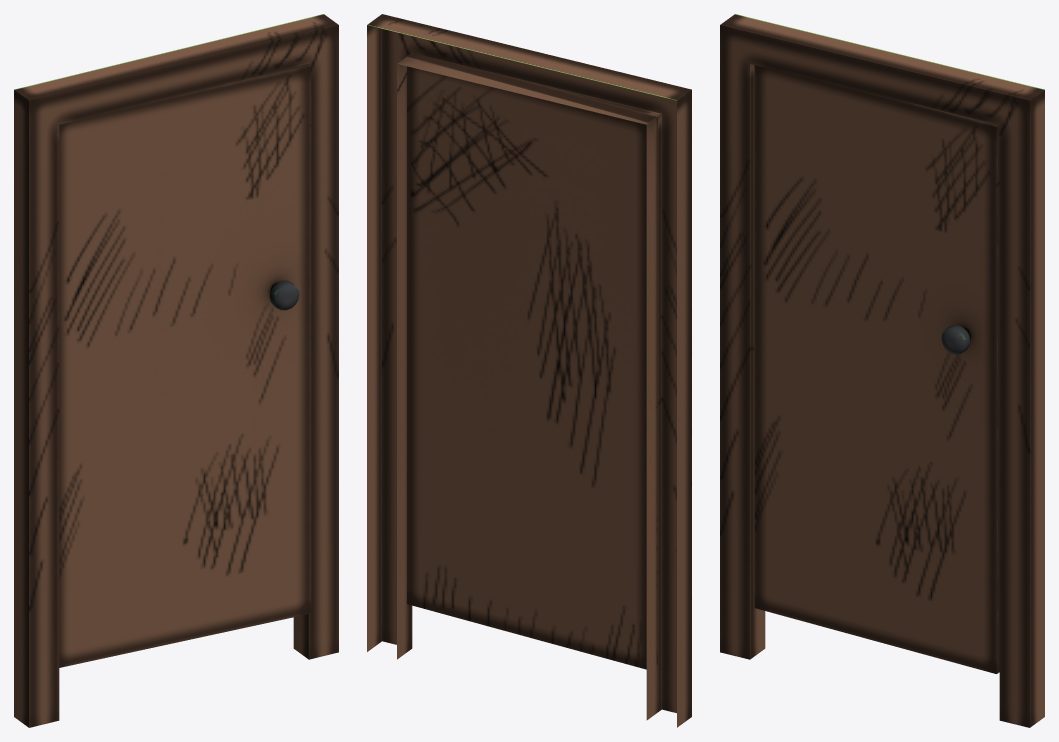
The model's file is StandingDoor_03.fbx.
3 views of the same model, side by side, from view 1: azimuth 30°, elevation 25°; view 2: azimuth 150°, elevation 25°; view 3: azimuth 330°, elevation 25° (orthographic).
Parts seen in each view (by area): view 1: Cube.016, Cube.023; view 2: Cube.016, Cube.023; view 3: Cube.016, Cube.023.
Part boxes in pixels (x1,y1,x2,y2): Cube.016: [59, 64, 311, 667]; Cube.023: [14, 14, 338, 727]; Cube.016: [407, 53, 657, 669]; Cube.023: [367, 14, 691, 727]; Cube.016: [754, 65, 999, 673]; Cube.023: [720, 14, 1044, 727].
Bounding box in the file's own units: 103 × 200 × 17.12.
